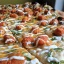pizza: (1, 3, 62, 64)
